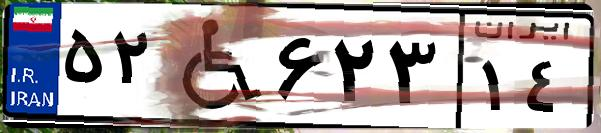1: (475, 38, 525, 113)
2: (330, 28, 385, 110), (110, 28, 158, 98)
3: (385, 28, 445, 110)
4: (525, 38, 570, 115)
5: (57, 26, 110, 100)
6: (270, 28, 330, 110)
ژ (معلولین و جانبازان): (158, 12, 270, 120)
